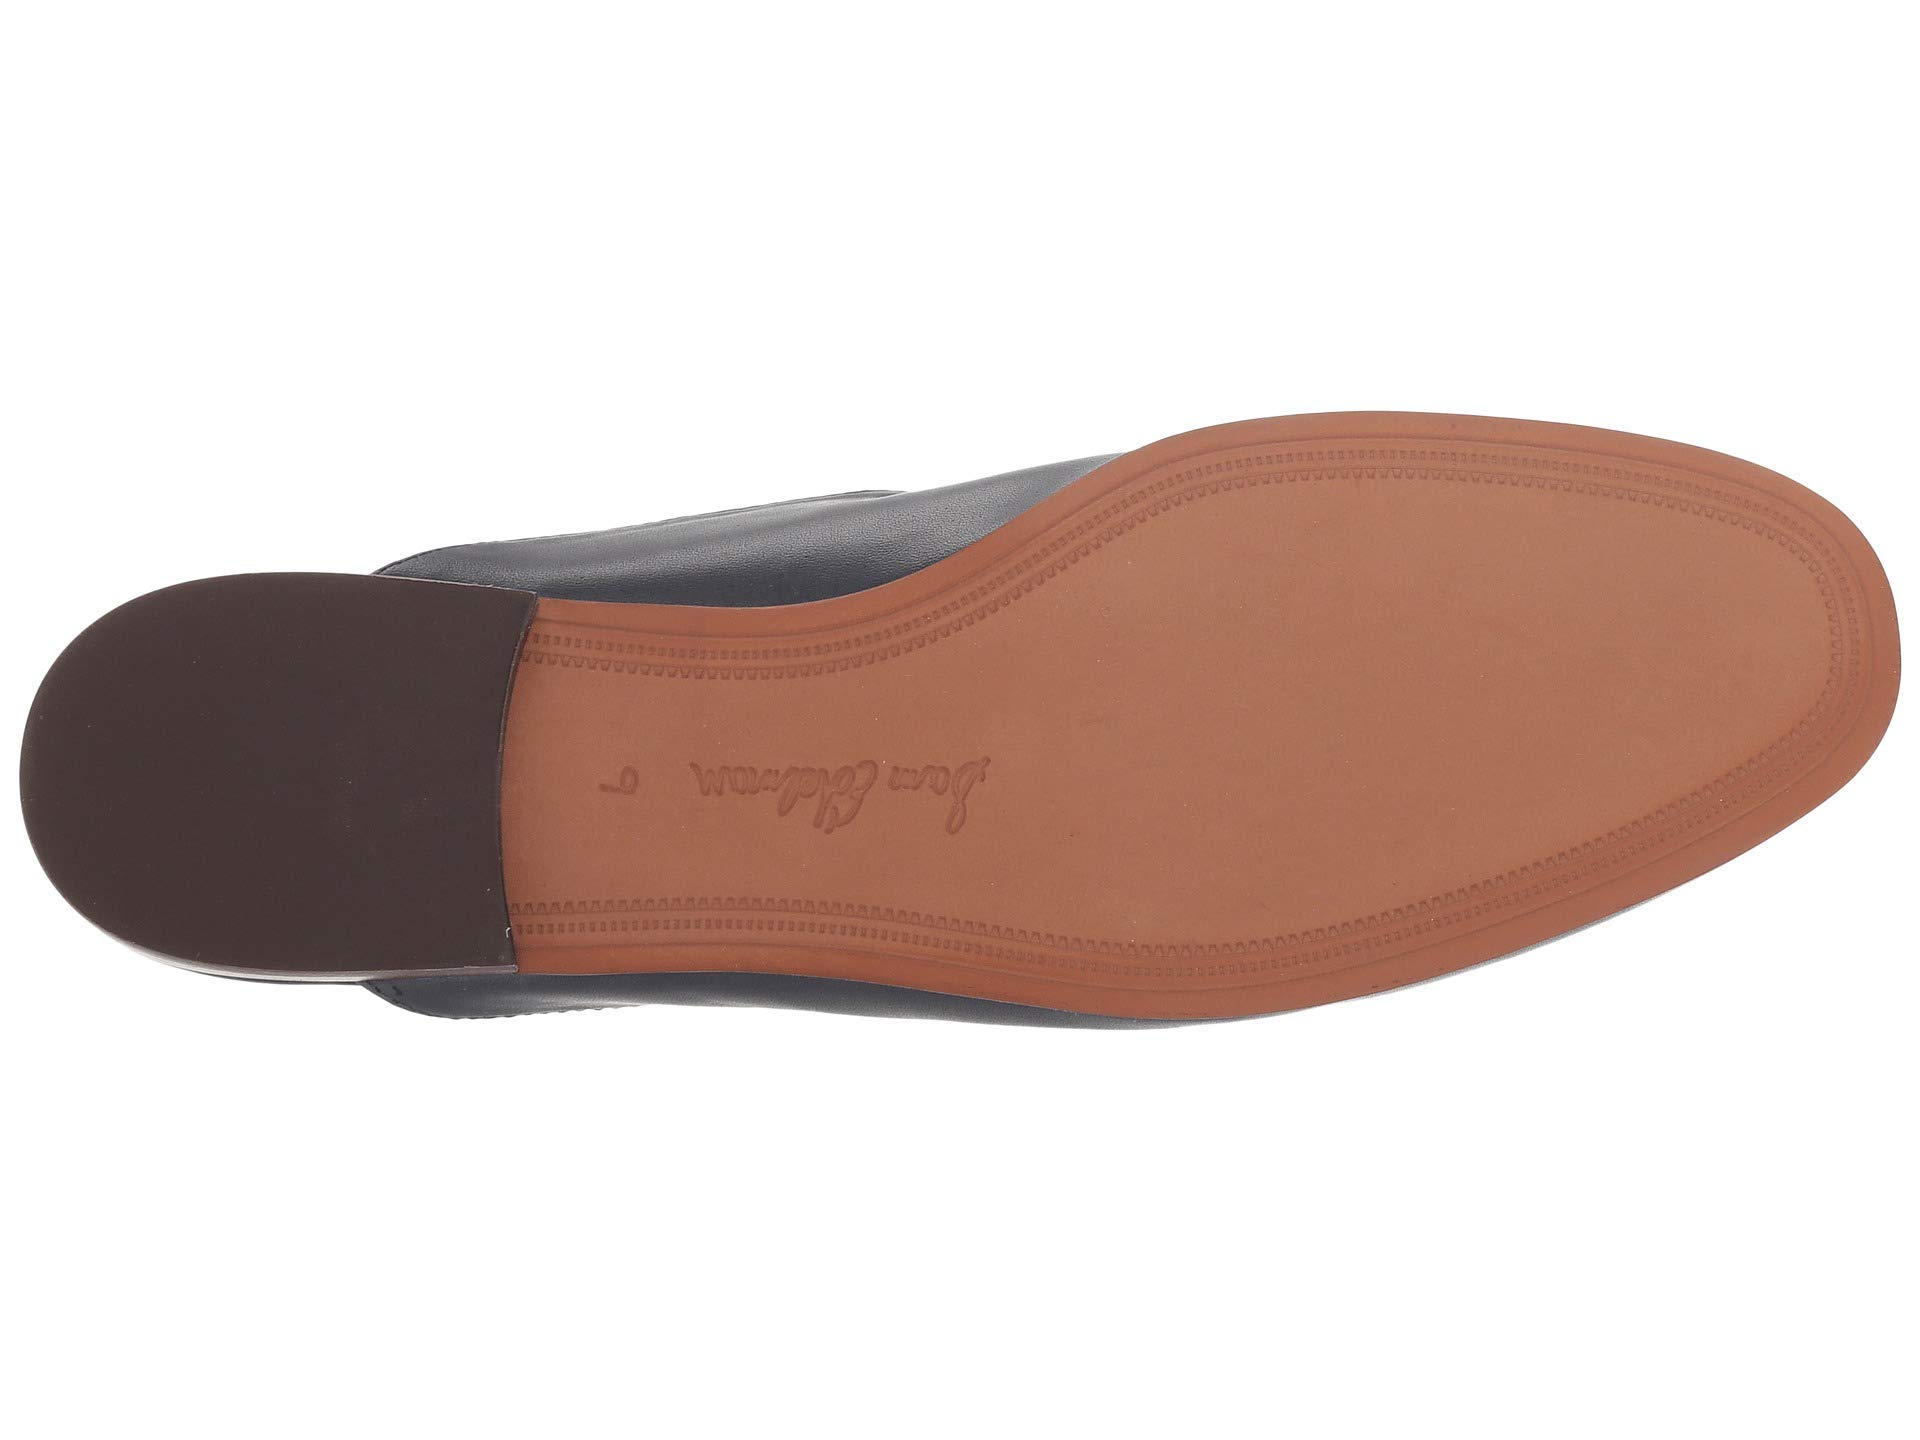line: (1203, 414, 1757, 531)
text: (549, 706, 1045, 853)
